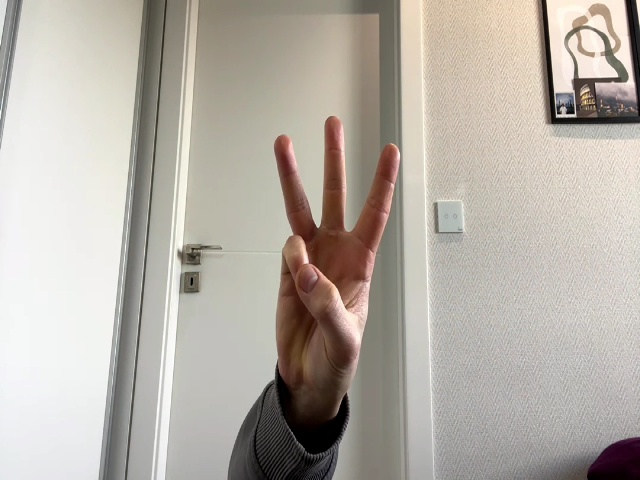W: (275, 115, 400, 392)
